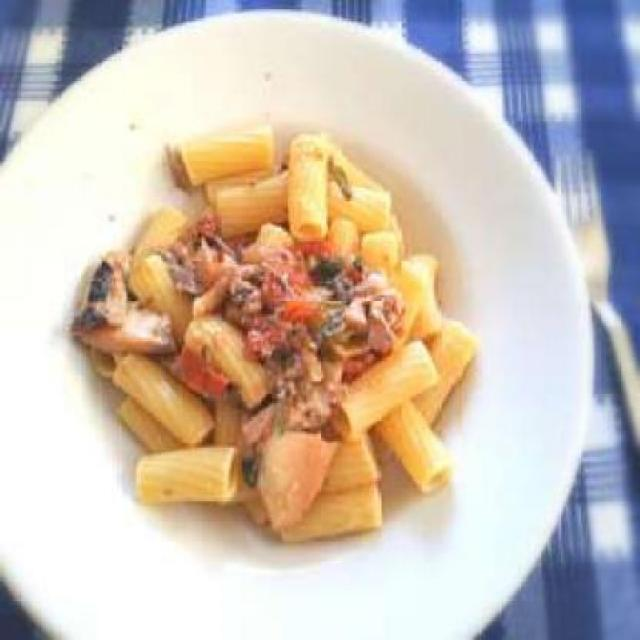Pasta al ragu: (71, 106, 504, 548)
